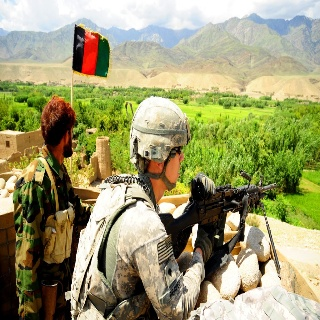rifle: (157, 180, 286, 275)
